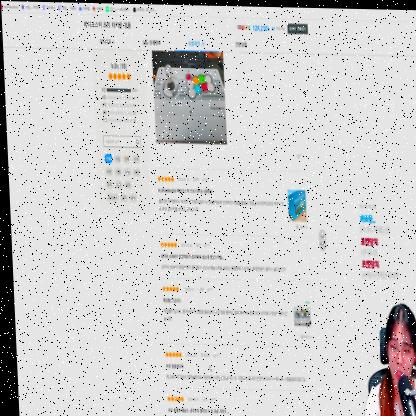streamer: (350, 299, 416, 416)
